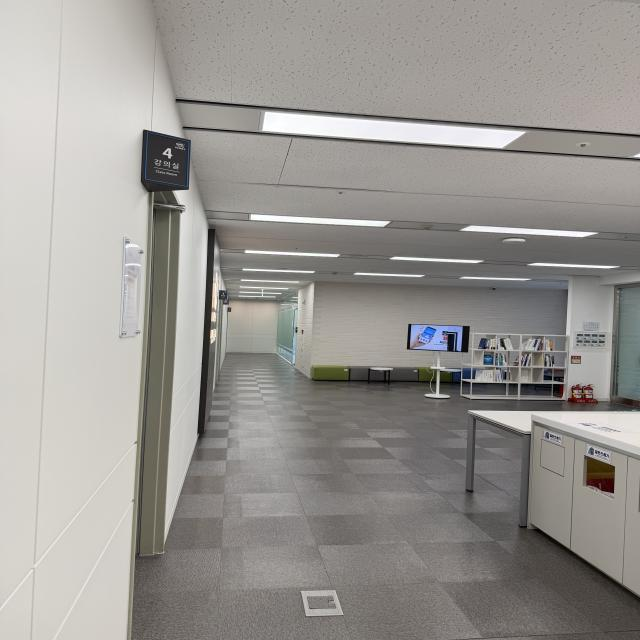sign: (141, 131, 188, 191)
